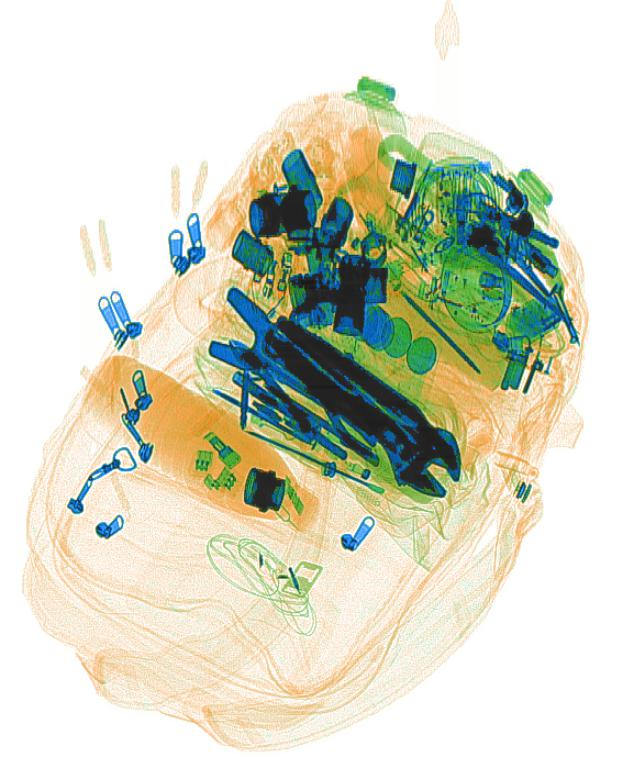USBFlashDisk: (282, 474, 304, 517)
